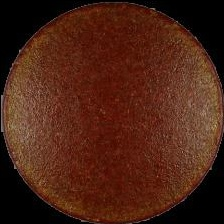64205-520: (0, 0, 224, 224)
